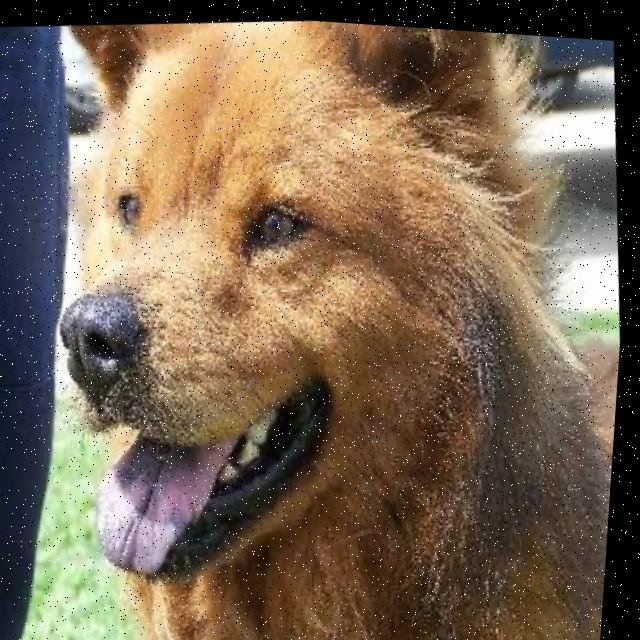dogs: (10, 2, 640, 640)
